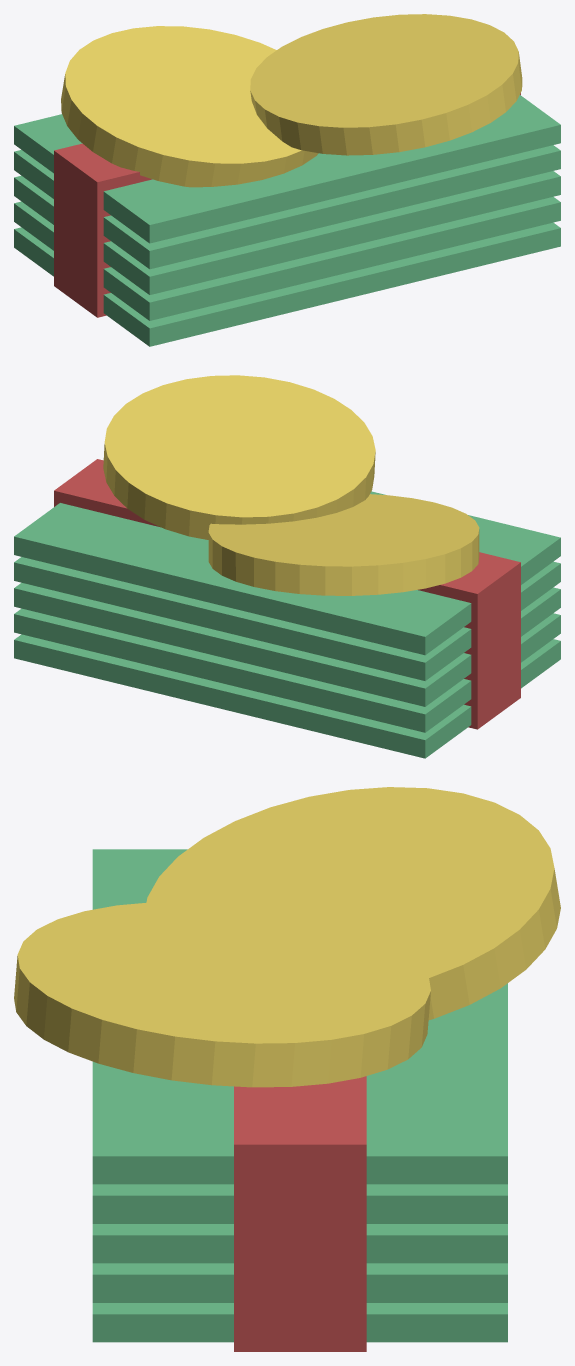
File: cashbundle.glb
3 views of the same model, one above another, from view 1: azimuth 30°, elevation 25°; view 2: azimuth 150°, elevation 25°; view 3: azimuth 270°, elevation 25° (orthographic). The views are drawn at different scales.
Parts seen in each view (by area): view 1: CashBundle; view 2: CashBundle; view 3: CashBundle.
Part boxes in pixels (box(x1,y1,x2,y2)): CashBundle: box(14, 14, 560, 346); CashBundle: box(14, 375, 560, 758); CashBundle: box(14, 787, 560, 1351).
Bounding box in the file's own units: 0.2884 × 0.1268 × 0.2109.
